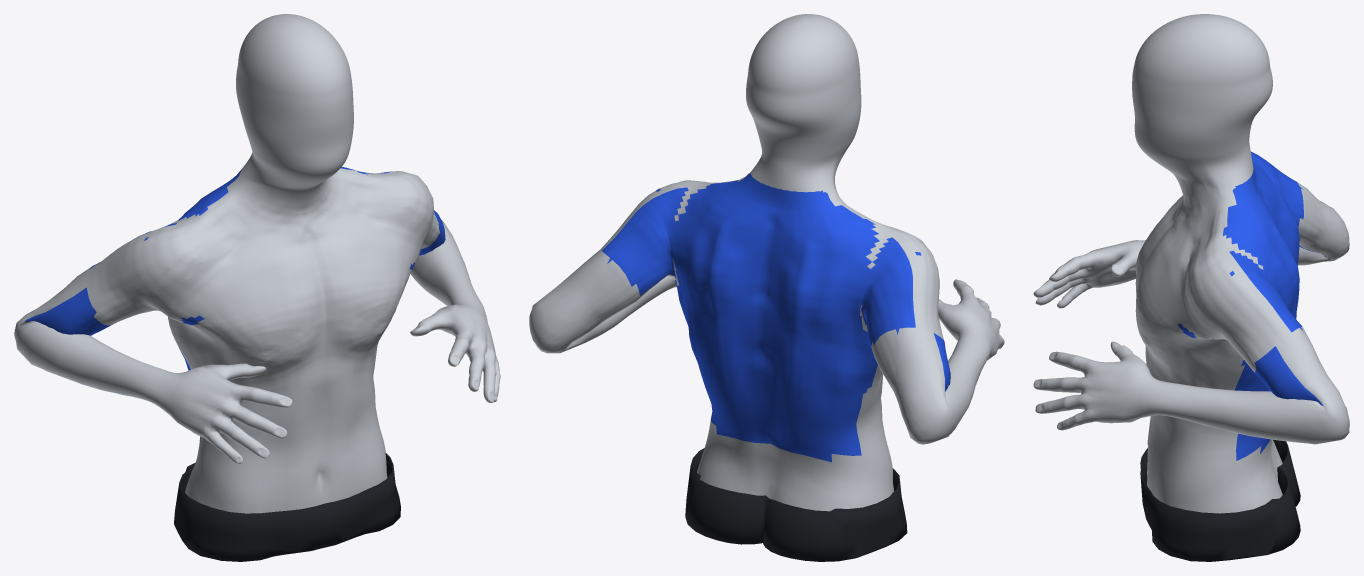
Rendered from workout-pull.glb.
3 renders of one model, left to right at view 1: azimuth 30°, elevation 25°; view 2: azimuth 150°, elevation 25°; view 3: azimuth 270°, elevation 25°, orthographic. The views are drawn at different scales.
Parts seen in each view (by area): view 1: SM_Athlete_Body; view 2: SM_Athlete_Body; view 3: SM_Athlete_Body.
Boxes of the visible parts, bbox=[...] form: SM_Athlete_Body: bbox=[14, 14, 500, 561]; SM_Athlete_Body: bbox=[529, 14, 1004, 561]; SM_Athlete_Body: bbox=[1033, 14, 1349, 561].
Size of the model in its own units: 1.78 by 2 by 1.16.
